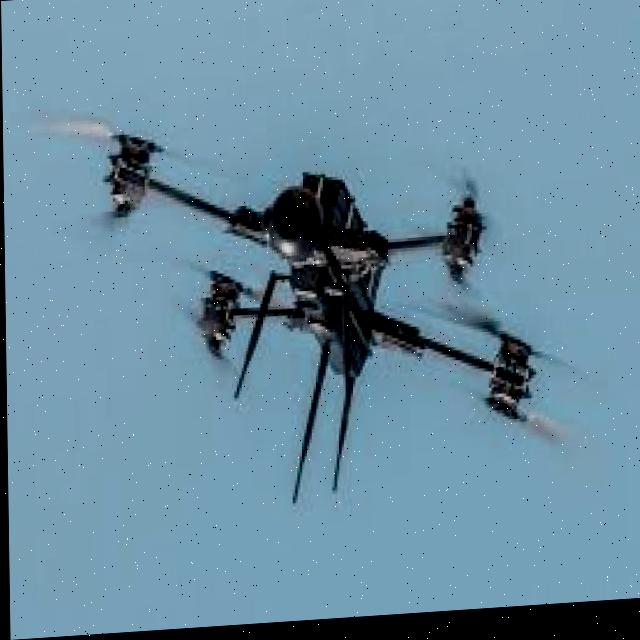drone: (35, 58, 608, 517)
